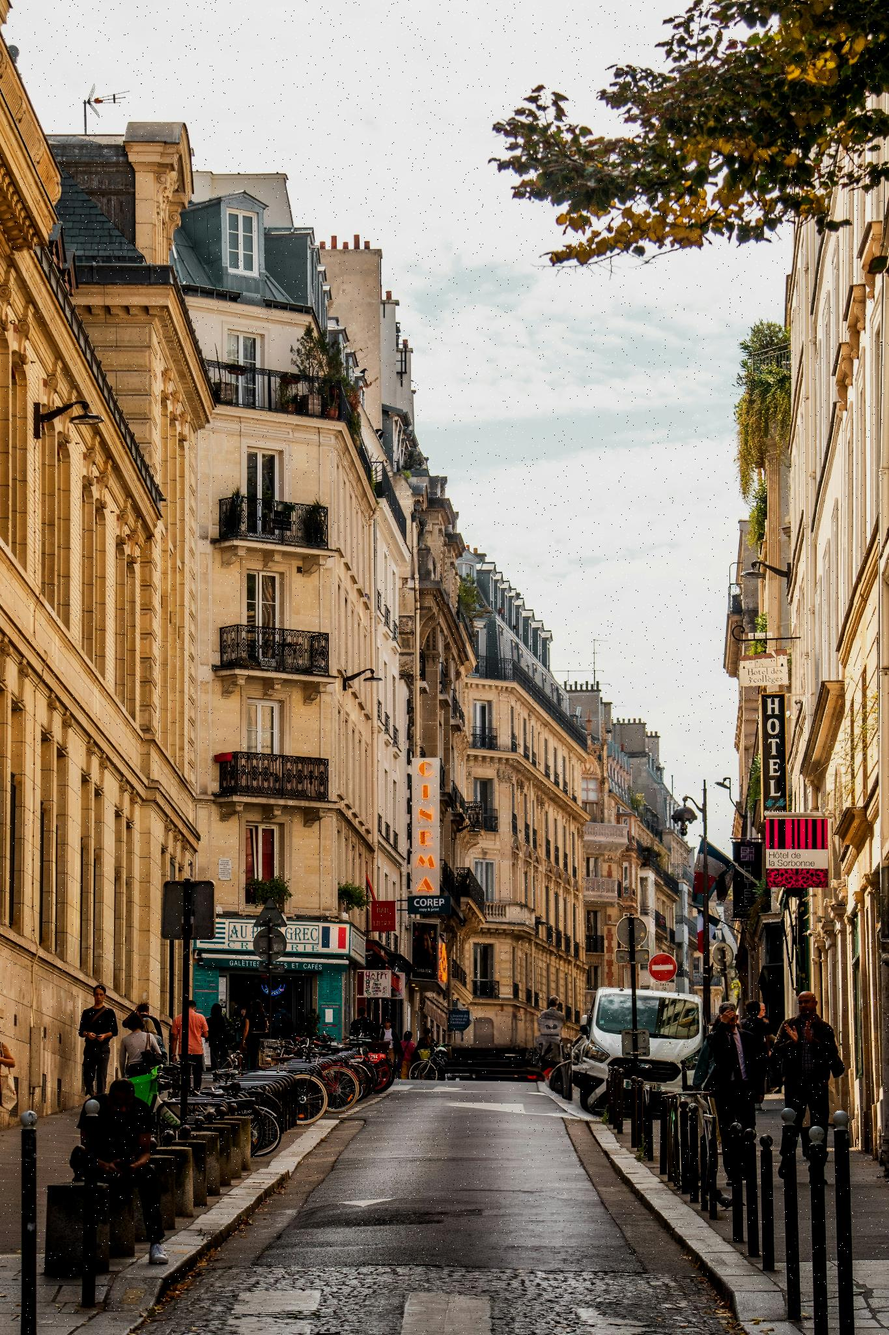car: (565, 988, 704, 1111)
pedestrian: (93, 1081, 170, 1269), (768, 992, 846, 1156), (690, 1002, 747, 1217), (80, 986, 119, 1102), (122, 1014, 164, 1114), (739, 999, 771, 1107), (183, 999, 210, 1089), (244, 990, 269, 1072), (206, 998, 231, 1069), (402, 1034, 415, 1079)
